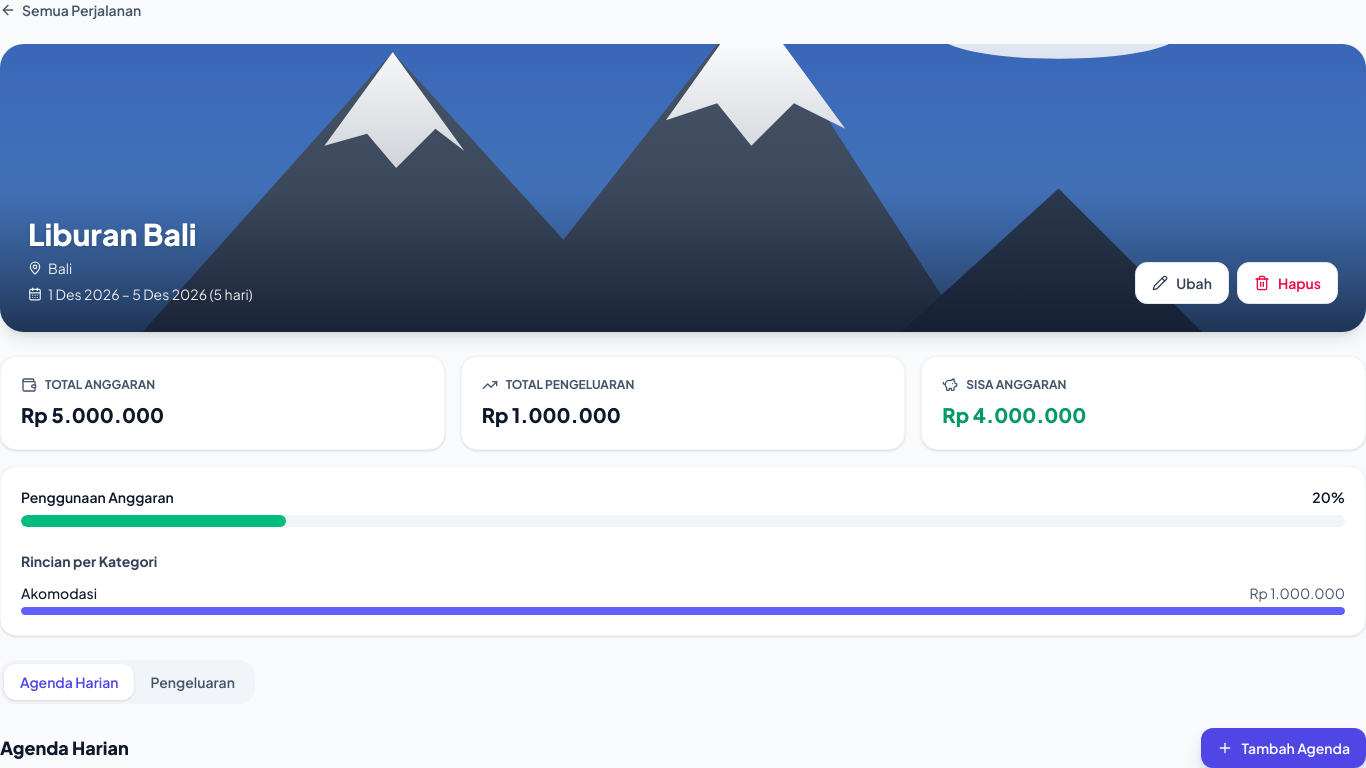
Test: DetailPage › pengeluaran › membuka modal catat pengeluaran lalu menutupnya setelah tersimpan
Click the button with test id "tab-expense" at [193, 682], box [134, 664, 251, 700]
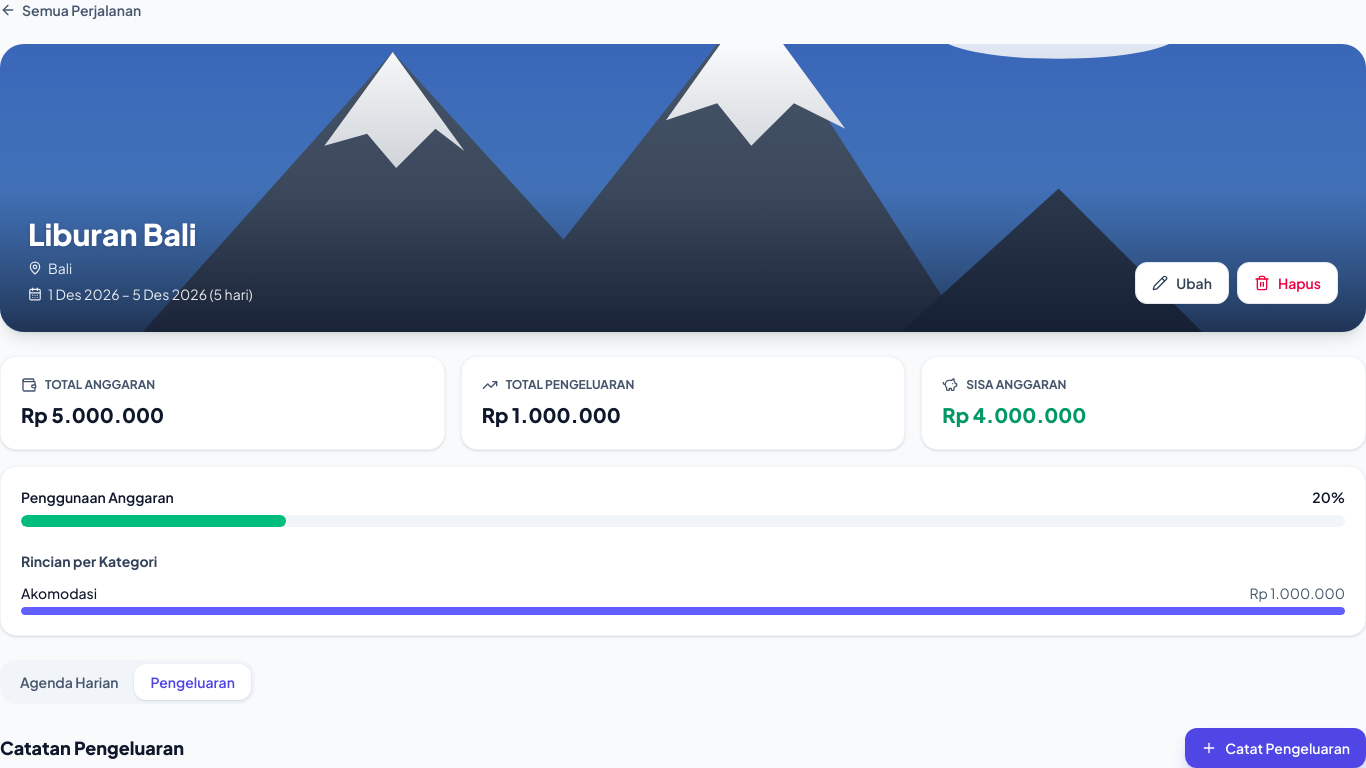
Click the button "Catat Pengeluaran" at [1276, 748], box [1185, 728, 1365, 767]
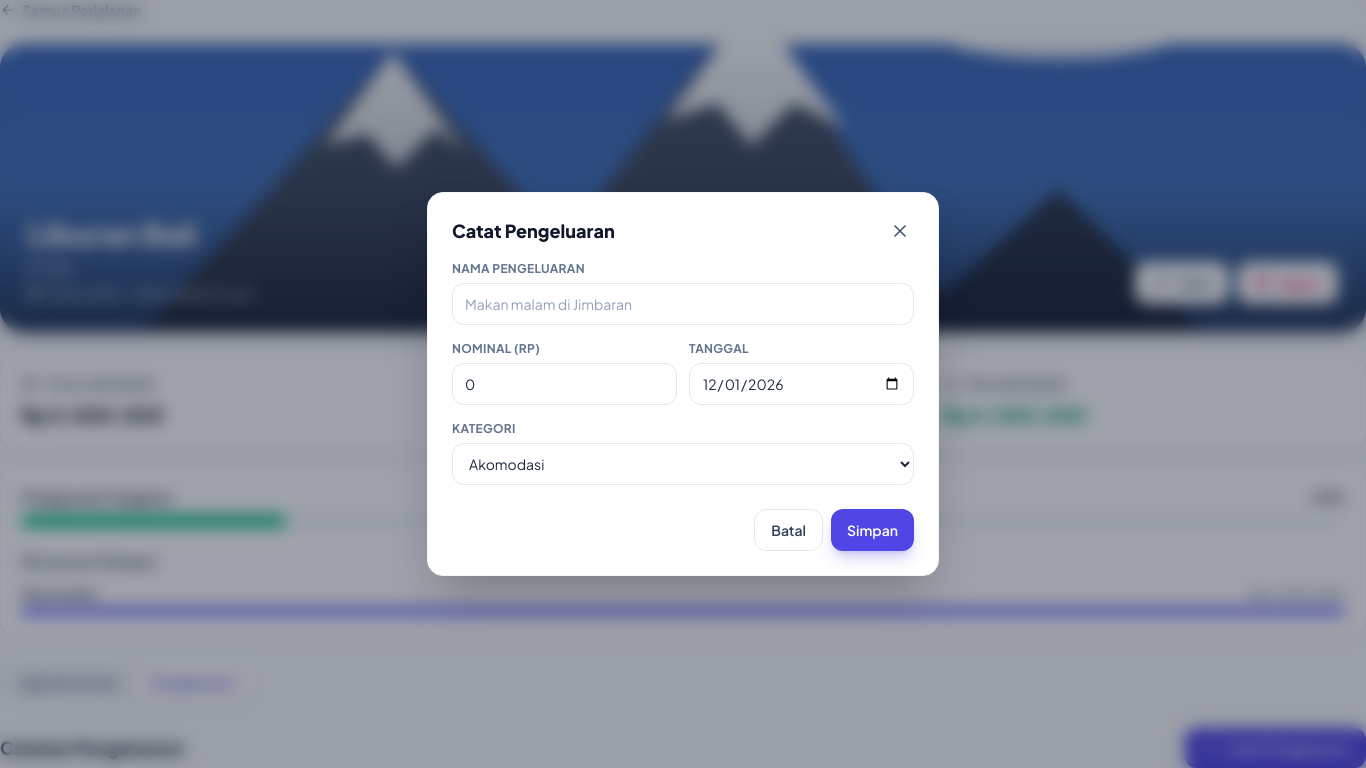
Check: the element with test id "expense-modal" is shown
